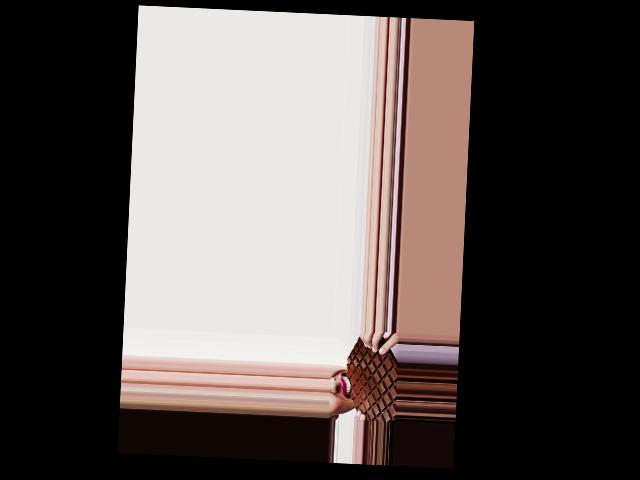chocolate: (342, 329, 399, 421)
